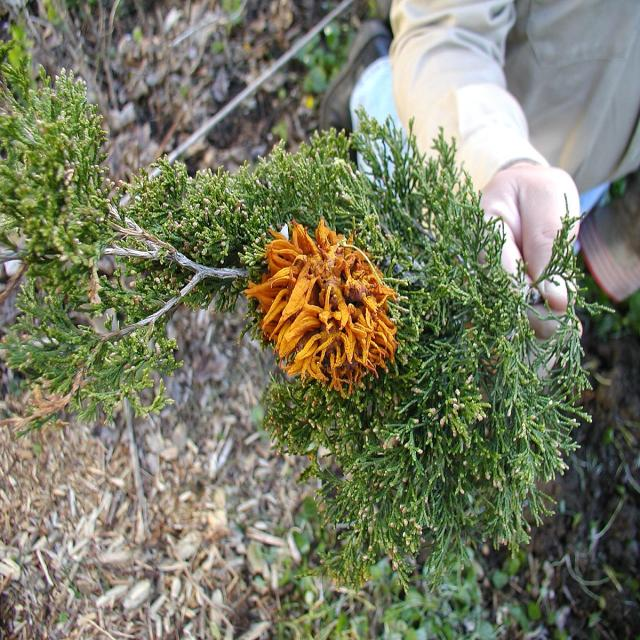Elderberry_rust: (243, 215, 400, 399)
